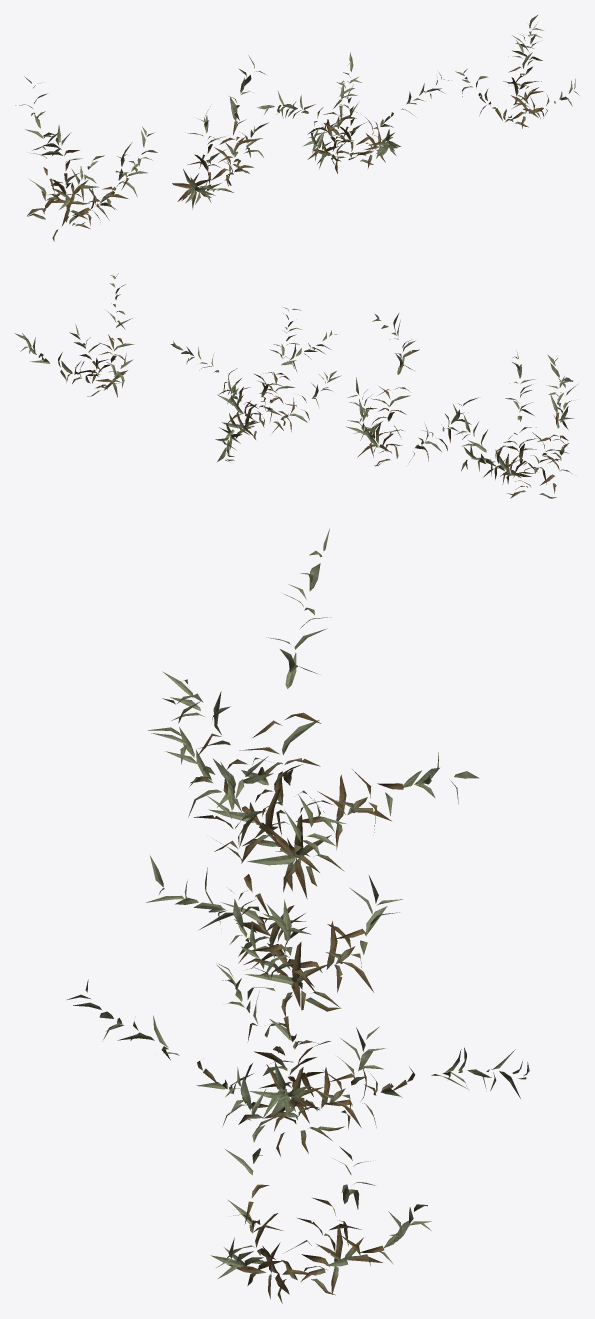
The model's file is shrub_02.glb.
The picture shows the model from 3 angles, top to bottom: view 1: azimuth 30°, elevation 25°; view 2: azimuth 150°, elevation 25°; view 3: azimuth 270°, elevation 25°; orthographic projection. The views are drawn at different scales.
Visible parts, largest first — view 1: shrub_02_a, shrub_02_c, shrub_02_b, shrub_02_d; view 2: shrub_02_c, shrub_02_a, shrub_02_b, shrub_02_d; view 3: shrub_02_a, shrub_02_c, shrub_02_b, shrub_02_d.
Part boxes in pixels (box(x1,y1,x2,y2)): shrub_02_a: box(15, 76, 157, 241); shrub_02_c: box(257, 52, 448, 173); shrub_02_b: box(172, 55, 268, 209); shrub_02_d: box(455, 15, 579, 128); shrub_02_c: box(170, 307, 341, 462); shrub_02_a: box(455, 351, 577, 498); shrub_02_b: box(346, 313, 478, 466); shrub_02_d: box(15, 273, 134, 397); shrub_02_a: box(148, 528, 479, 898); shrub_02_c: box(67, 888, 529, 1156); shrub_02_b: box(146, 756, 402, 1016); shrub_02_d: box(210, 1067, 431, 1303).
Size of the model in its own units: 6.05 by 1.7 by 2.28.
Materials: 1 (1 with a texture image).
